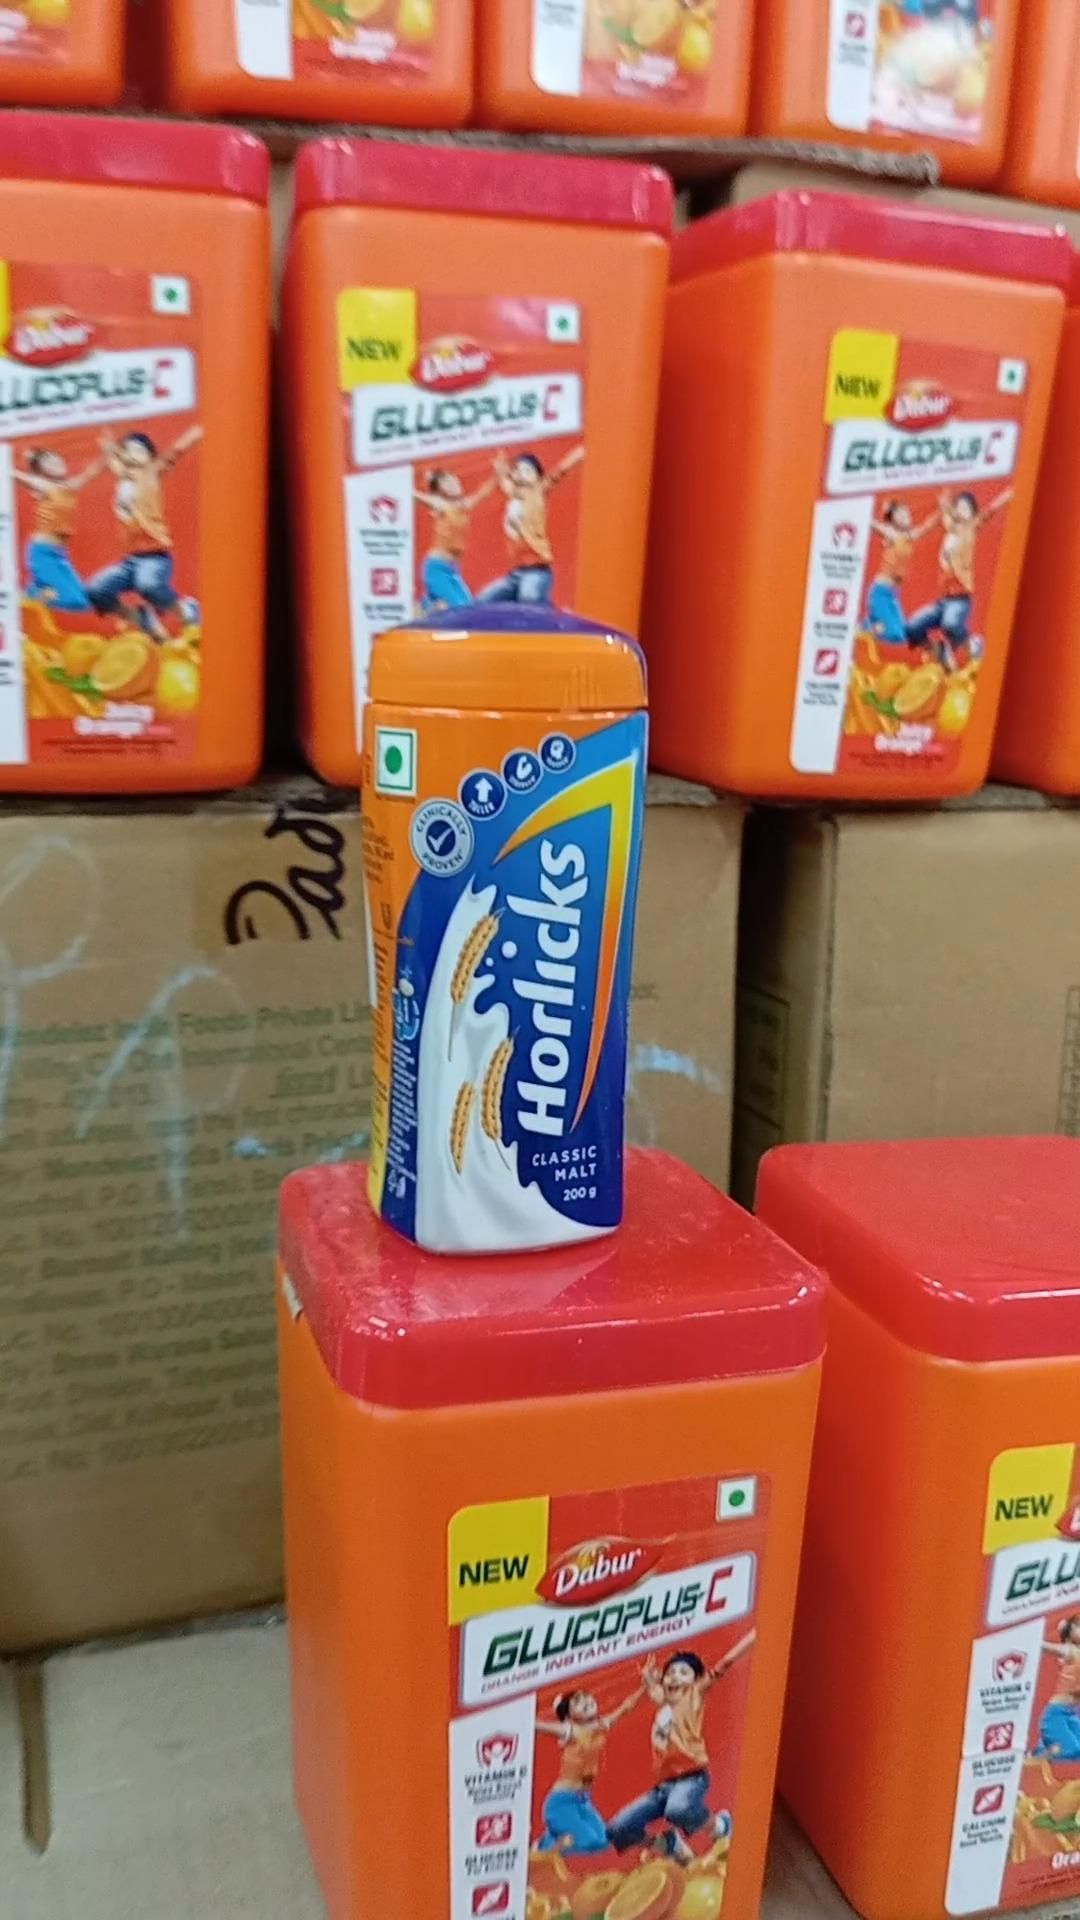HORLICK_CLASSIC_MALT_200_G_JAR: (369, 609, 634, 1255)
